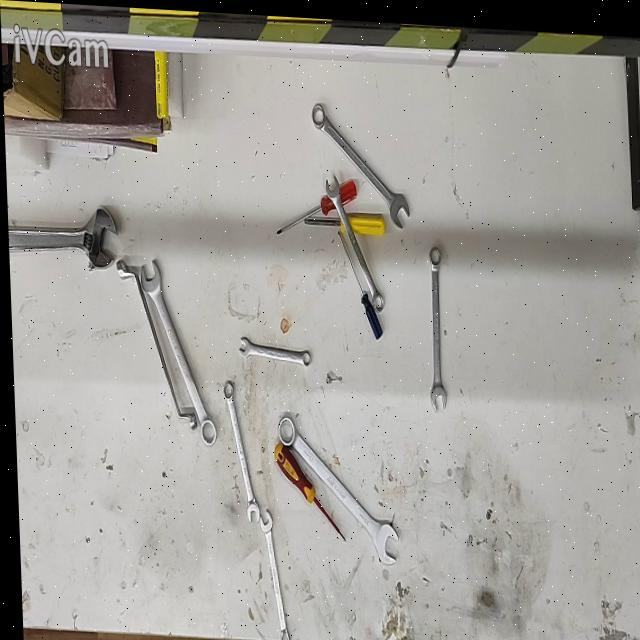Screwdriver: (271, 440, 343, 538), (336, 226, 381, 336), (274, 176, 355, 233), (302, 209, 384, 232)
